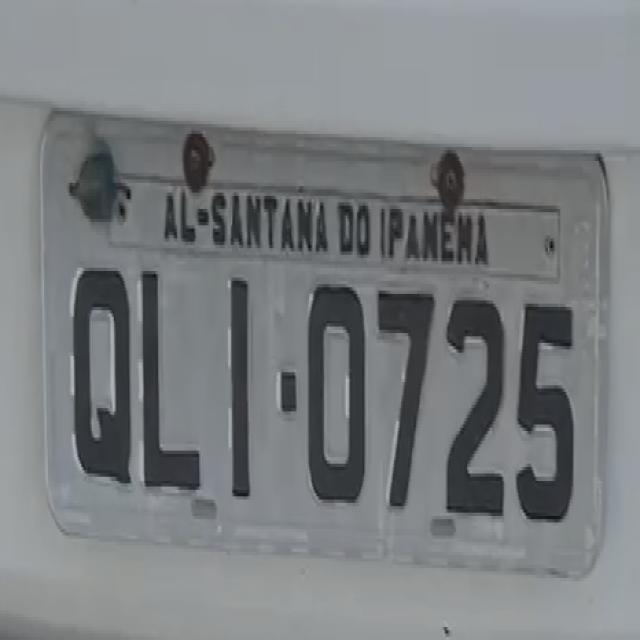Placa_mercosul_carro: (43, 114, 607, 575)
